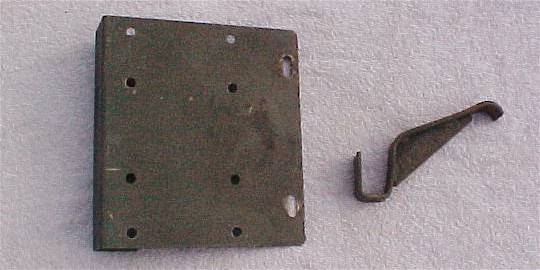hole: (229, 172, 243, 187), (125, 226, 138, 242), (125, 172, 138, 188), (124, 76, 137, 91), (226, 82, 239, 96), (224, 33, 237, 47), (232, 226, 244, 239), (125, 26, 137, 38)
